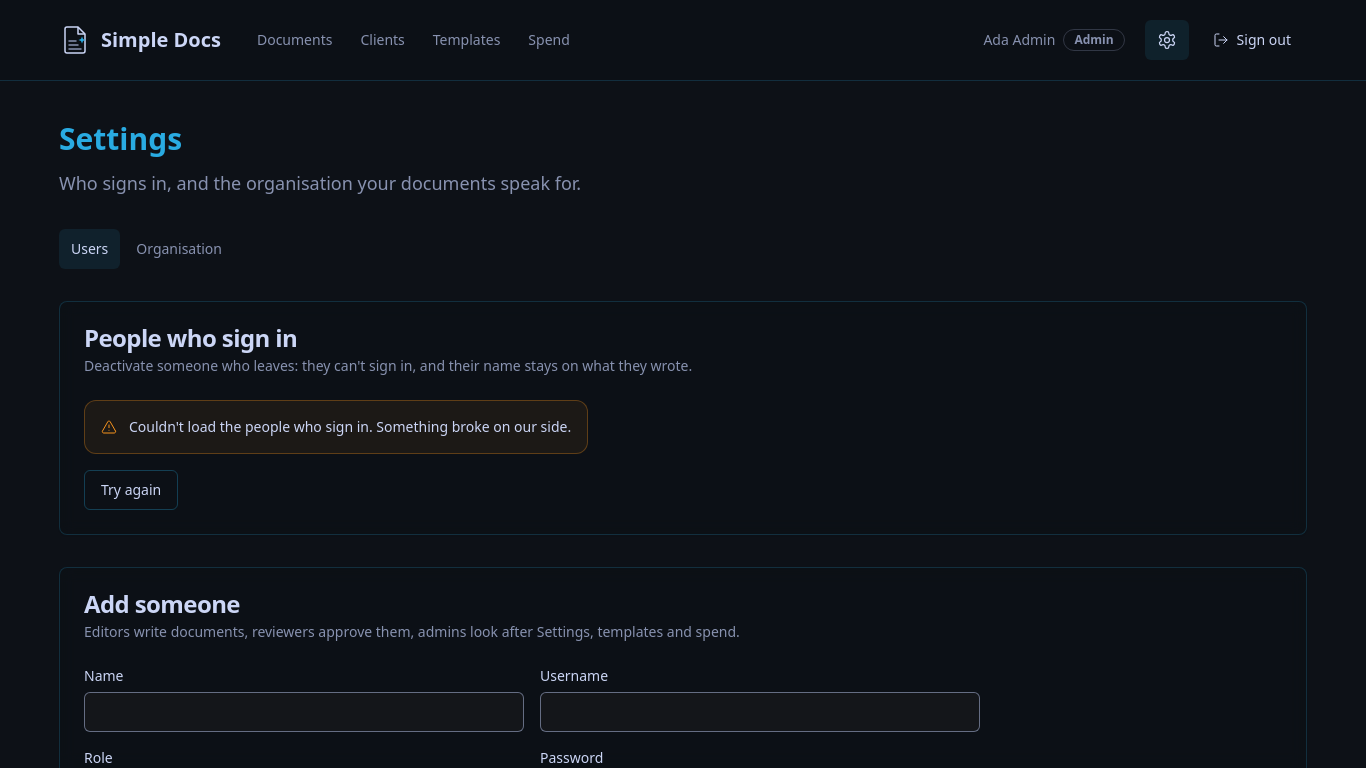
Settings → Users › says when the list can't be loaded, and tries again
expect the message shows "Couldn't load the people who sign in.": met, box x1=129 y1=417 x2=376 y2=436
Click the button "Try again" at (131, 490), box x1=84 y1=470 x2=178 y2=510
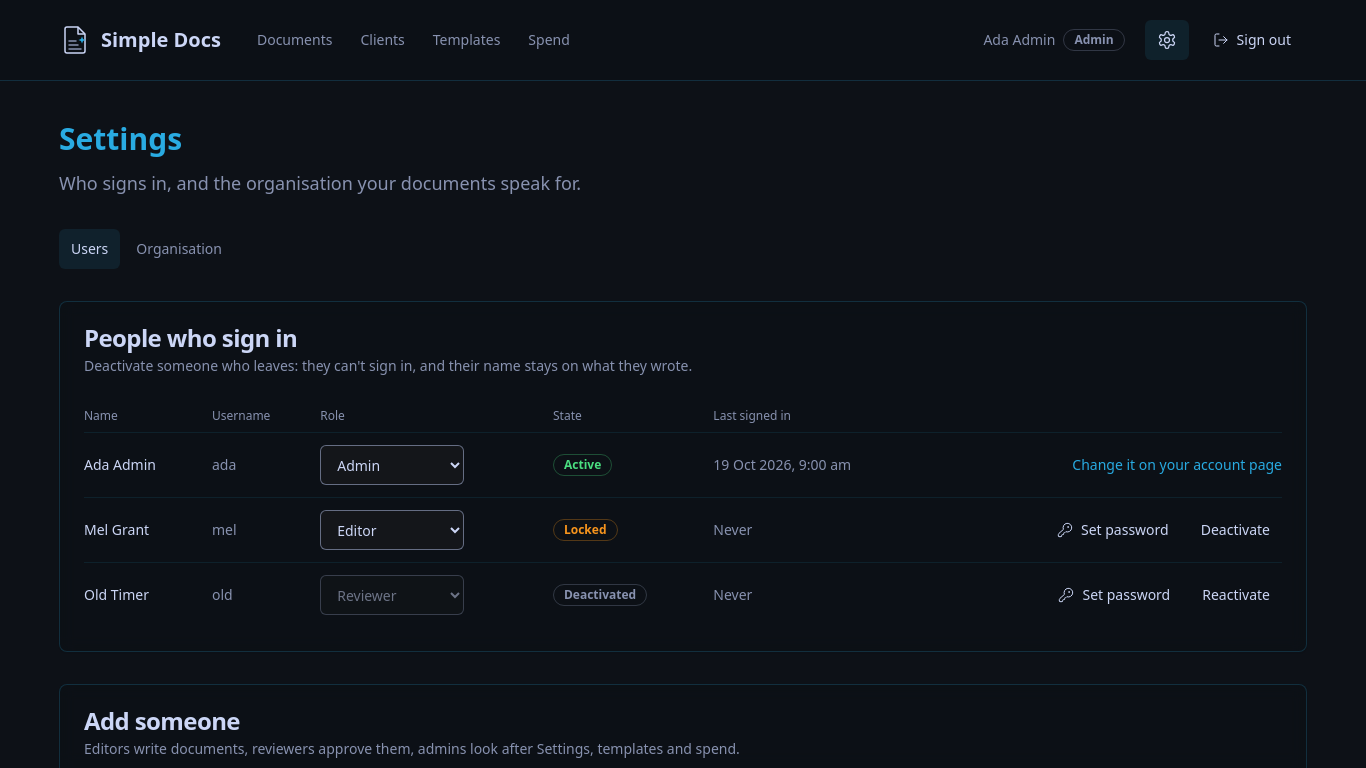
expect the table named "People who sign in" is shown: met, box x1=84 y1=400 x2=1282 y2=627
